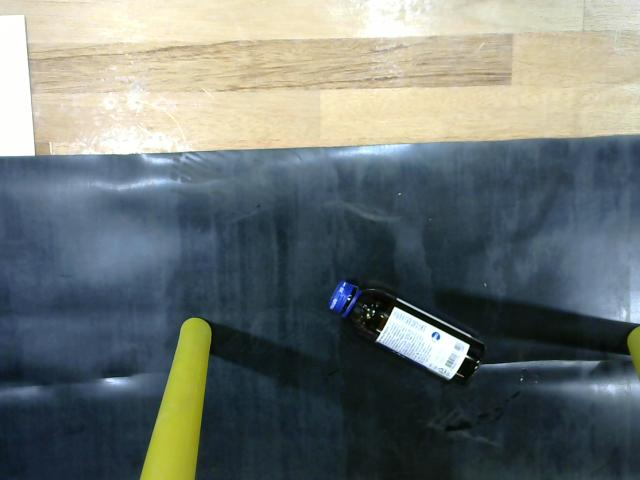glass: (325, 280, 491, 389)
